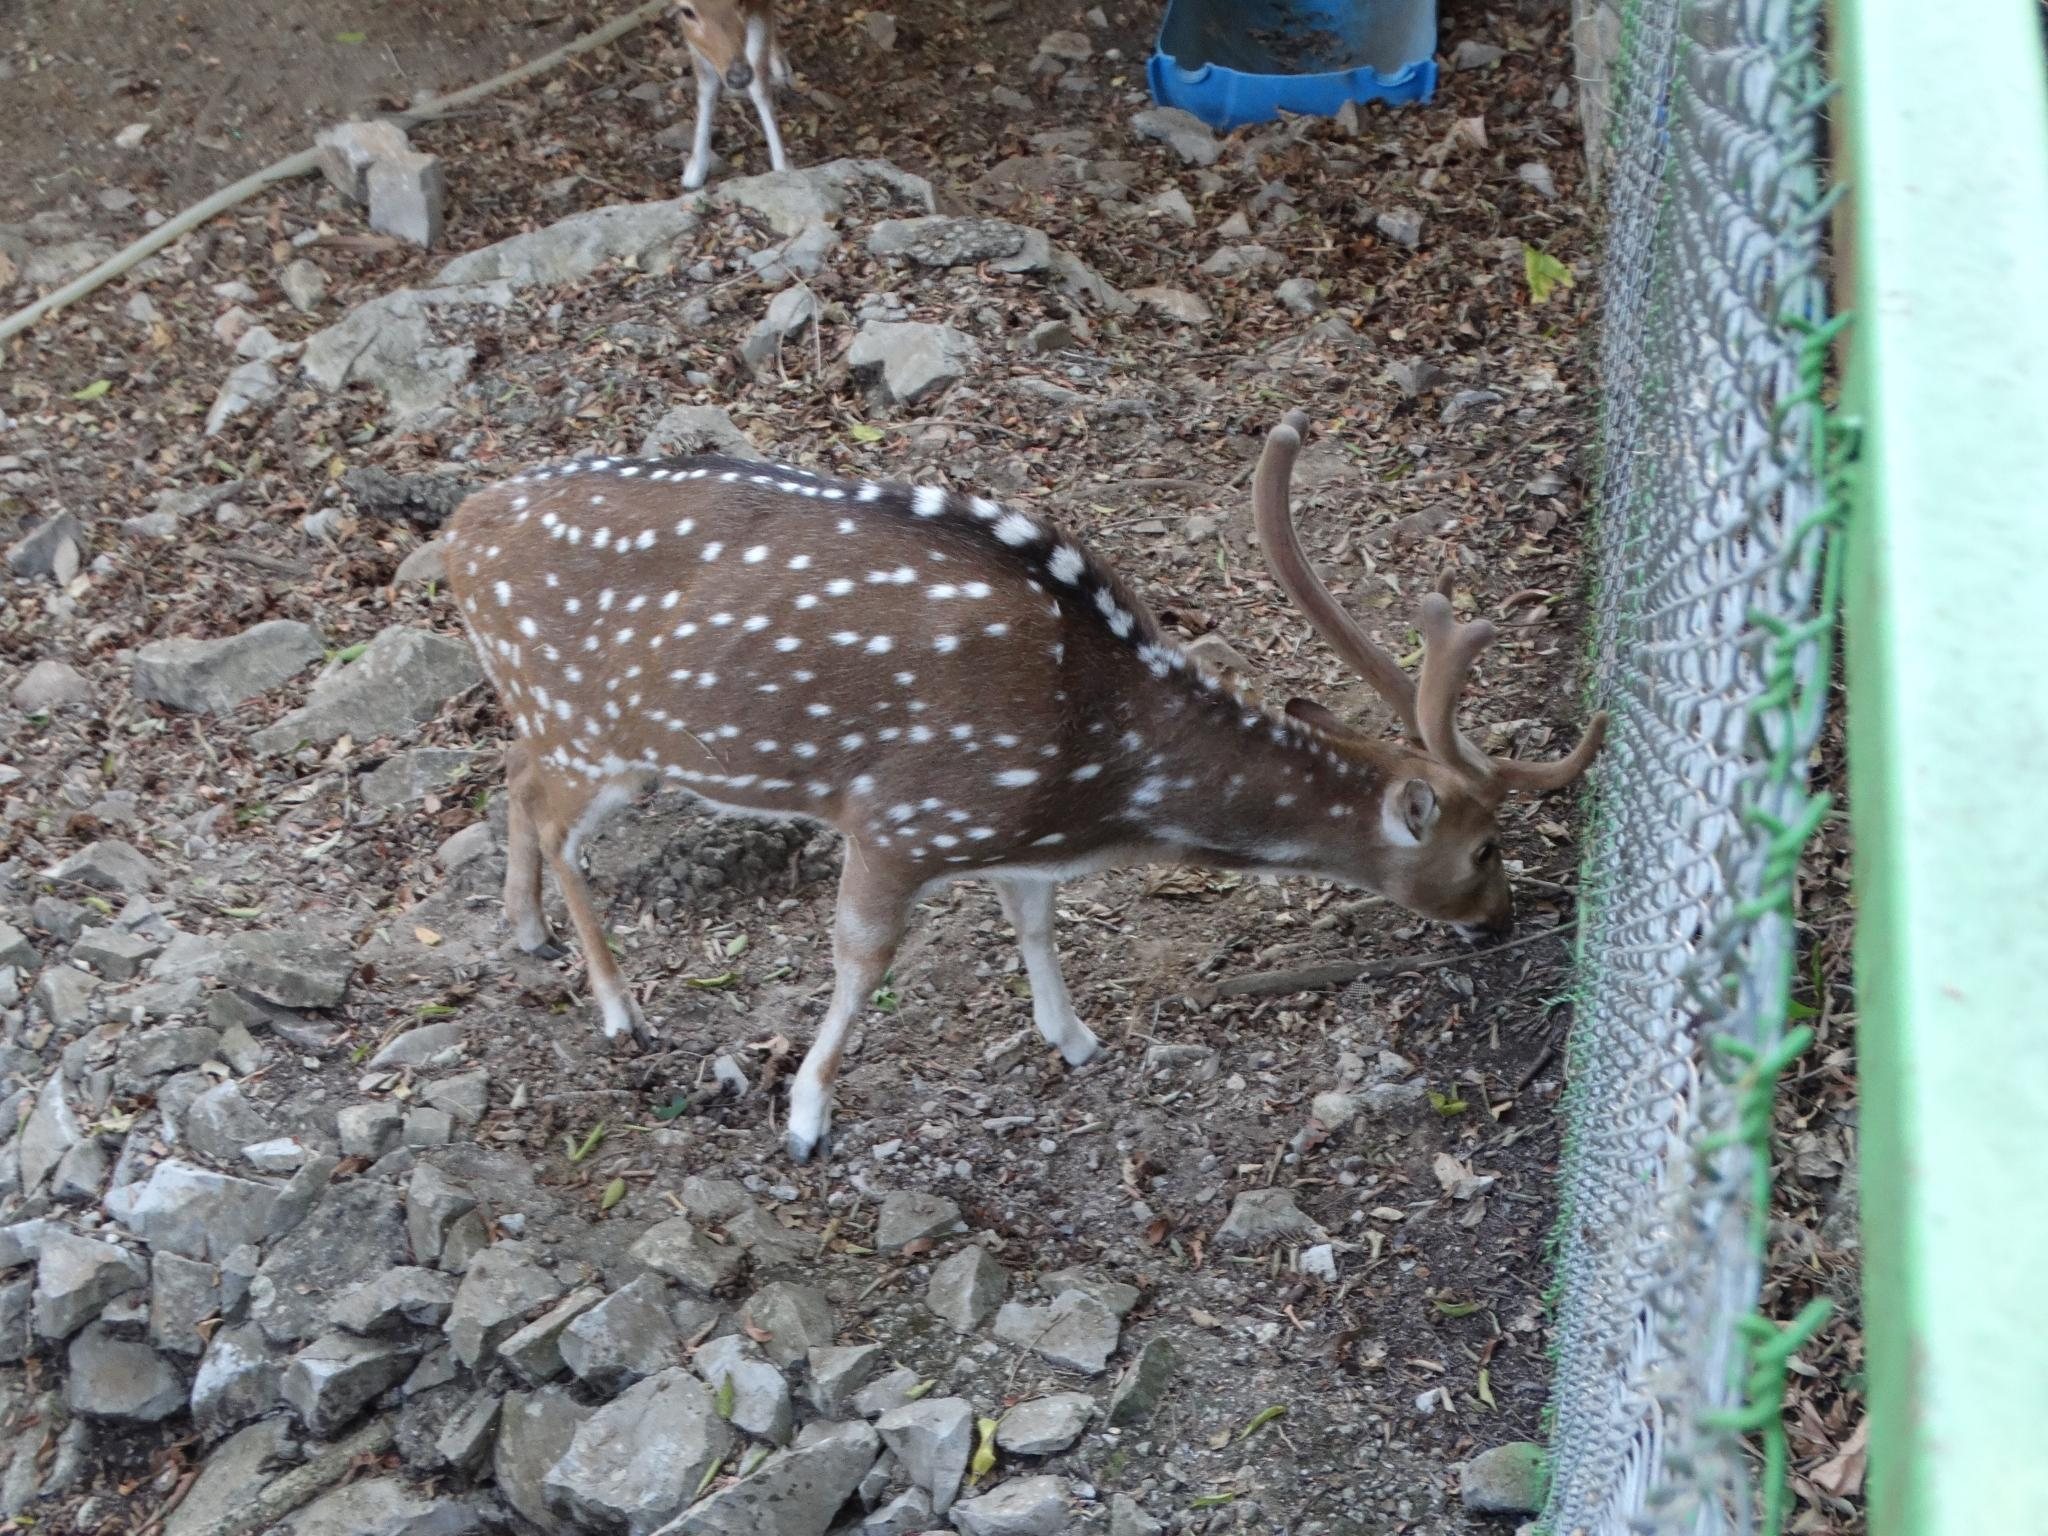Deer: (447, 415, 1605, 1157)
